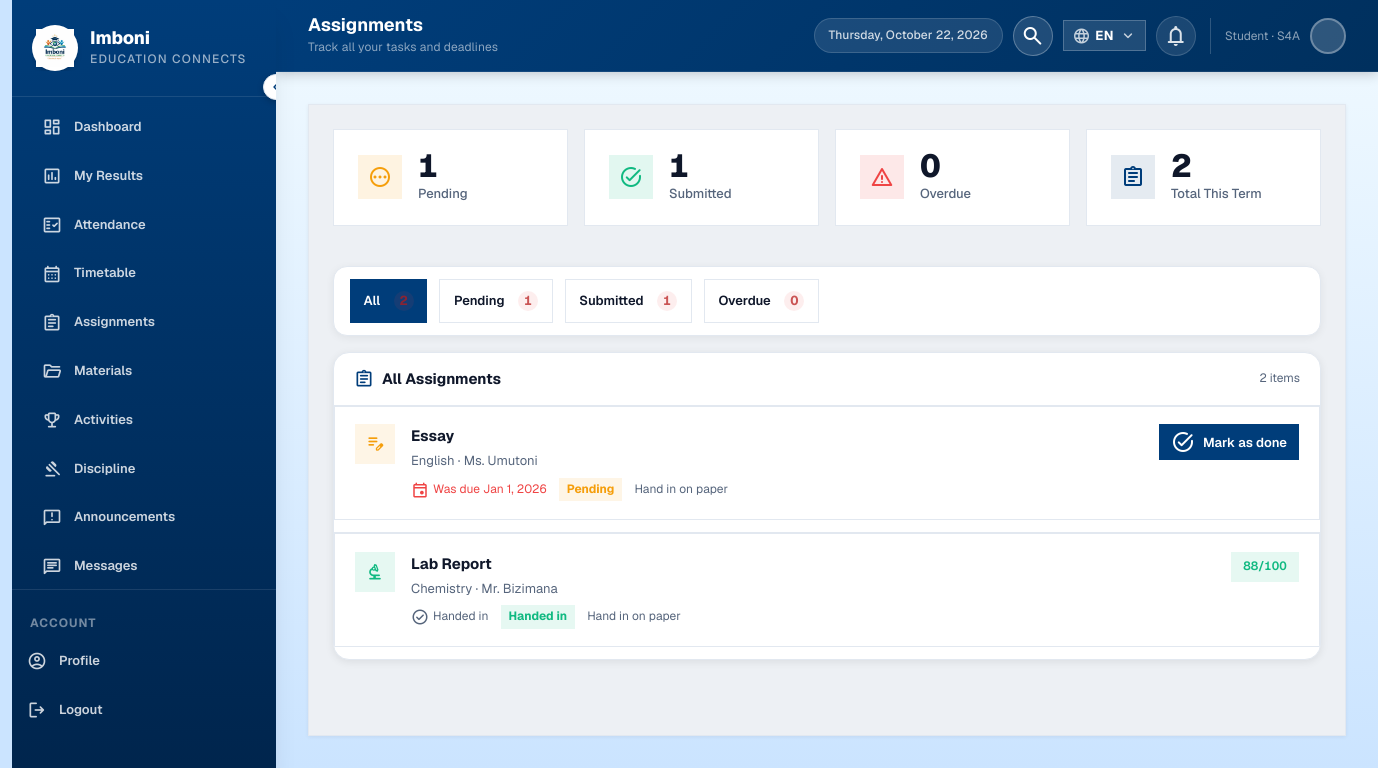
it: StudentAssignments › filters by status tab
The image size is (1378, 768).
Check: the text "Essay" is shown, box [411,426,454,445]
Step 1. Click the button "Submitted 1" → (628, 301), box [565,279,692,323]
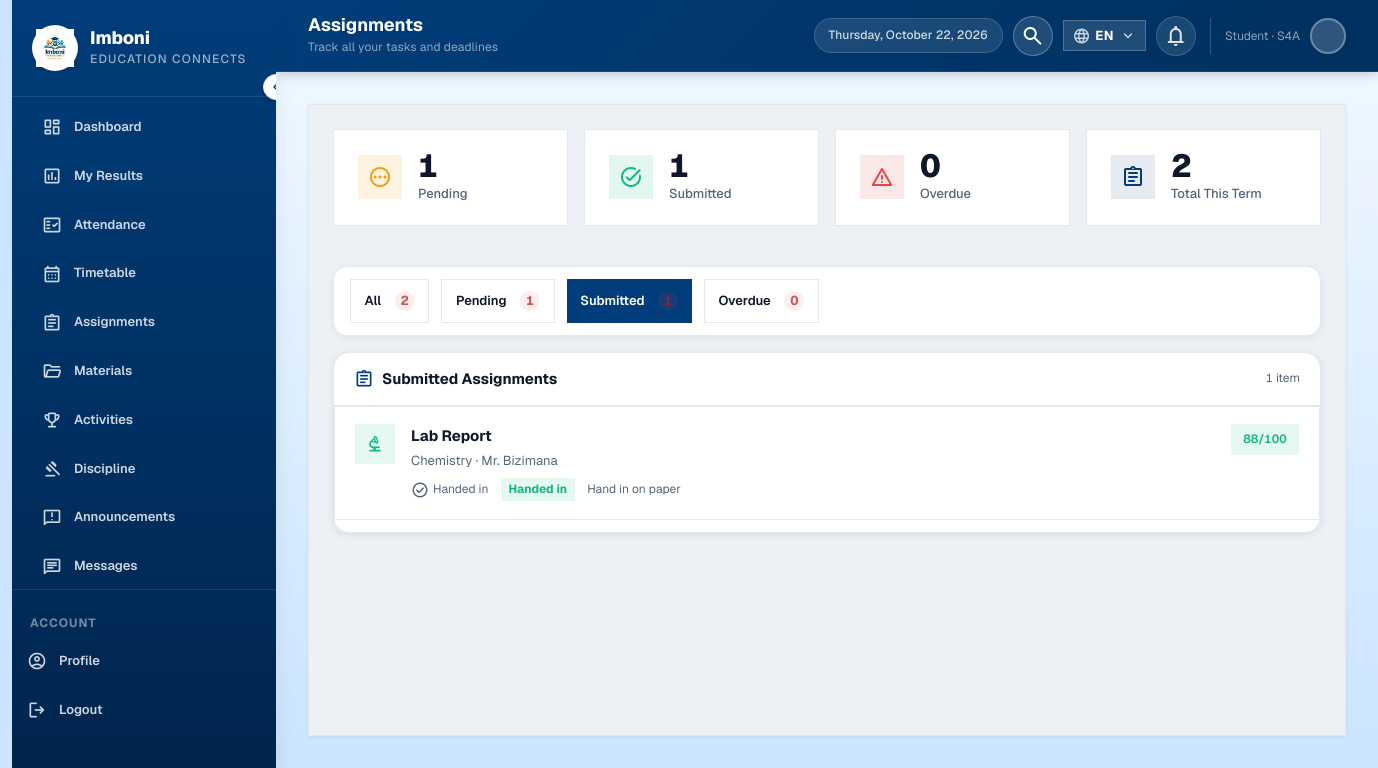
Check: the text "Lab Report" is shown, box [411,426,492,445]
Check: the text "Essay" is gone
